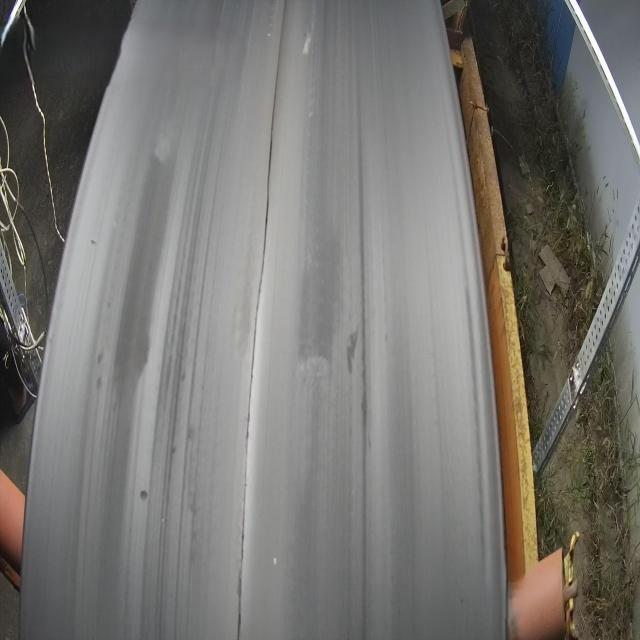Tear: (224, 43, 294, 640)
